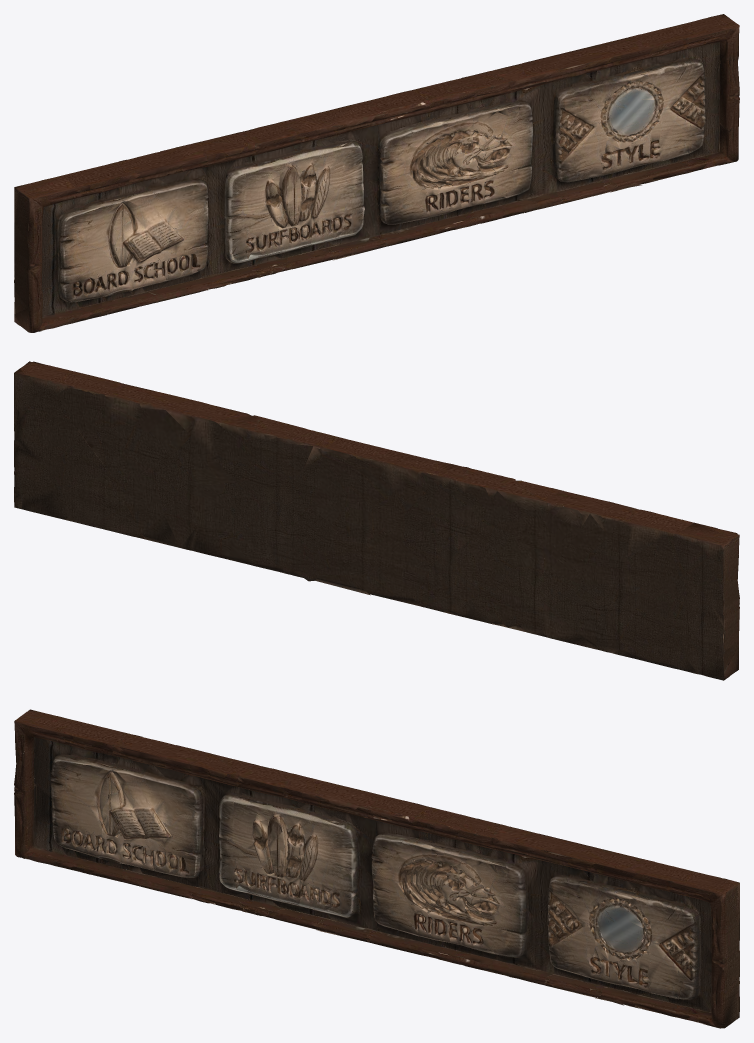
The model's file is shopbuttons.glb.
3 views of the same model, one above another, from view 1: azimuth 30°, elevation 25°; view 2: azimuth 150°, elevation 25°; view 3: azimuth 330°, elevation 25° (orthographic).
Parts seen in each view (by area): view 1: buttons; view 2: buttons; view 3: buttons.
Part boxes in pixels (x1,y1,x2,y2): buttons: (14,14,739,332); buttons: (14,361,739,680); buttons: (14,709,739,1028).
Size of the model in its own units: 1.9 by 0.3507 by 0.082.
1 material, 1 textured.
